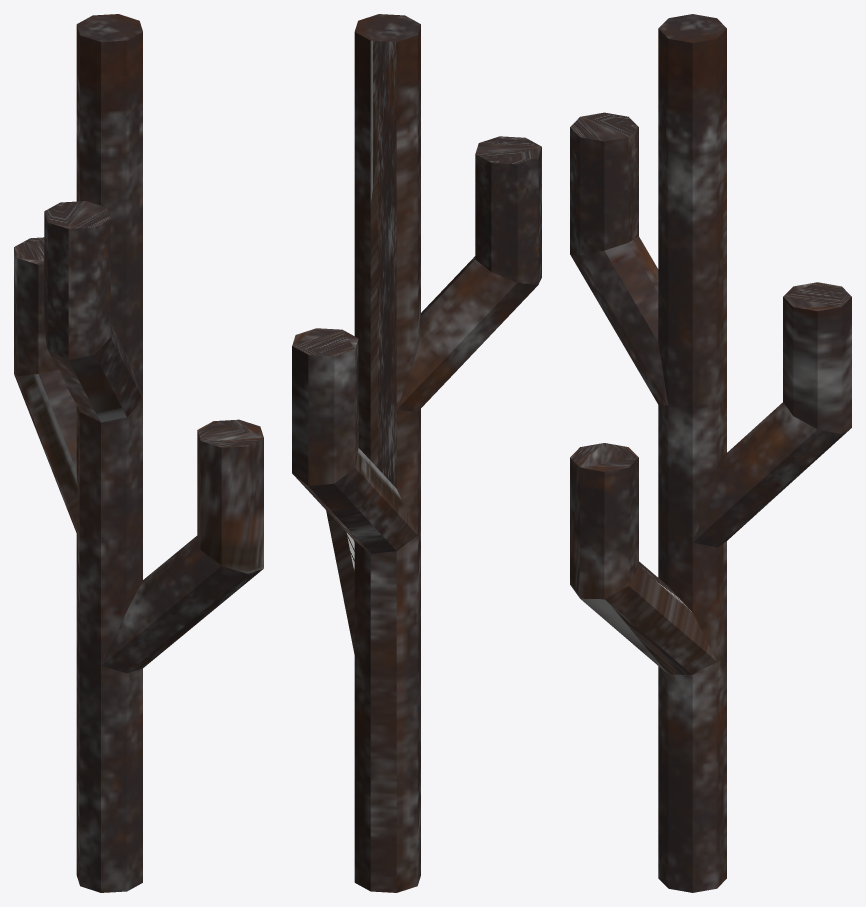
File: rusty_pole2.glb
3 views of the same model, side by side, from view 1: azimuth 30°, elevation 25°; view 2: azimuth 150°, elevation 25°; view 3: azimuth 270°, elevation 25° (orthographic).
Parts seen in each view (by area): view 1: Rusty Pole; view 2: Rusty Pole; view 3: Rusty Pole.
Boxes of the visible parts, box(x1,y1,x2,y2) form: Rusty Pole: box(14, 14, 263, 892); Rusty Pole: box(292, 14, 541, 892); Rusty Pole: box(570, 14, 851, 892).
Size of the model in its own units: 1.07 by 4.09 by 1.23.
1 material, 1 textured.
